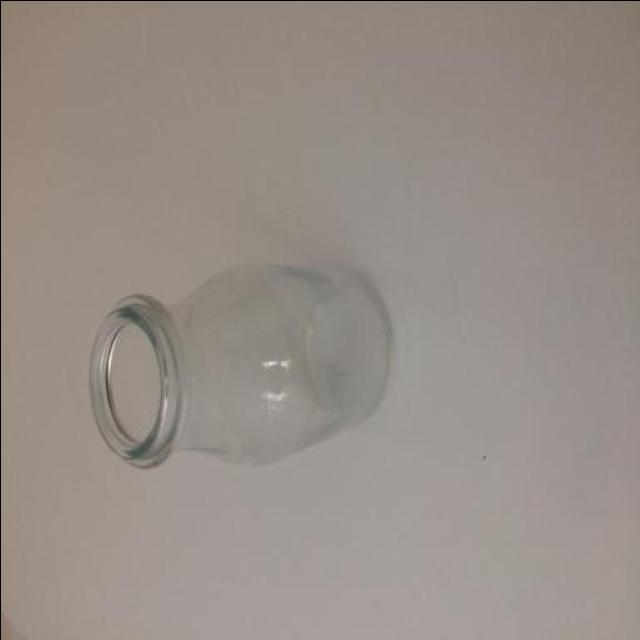glass: (88, 245, 396, 473)
